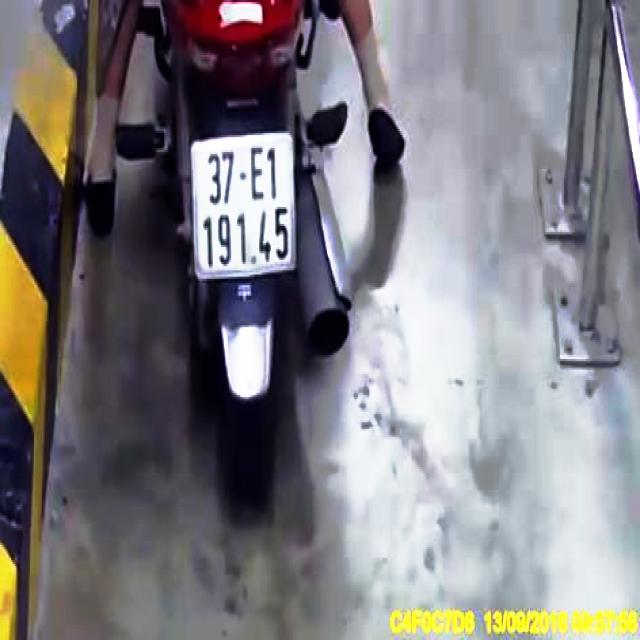license_plate: (192, 132, 297, 276)
